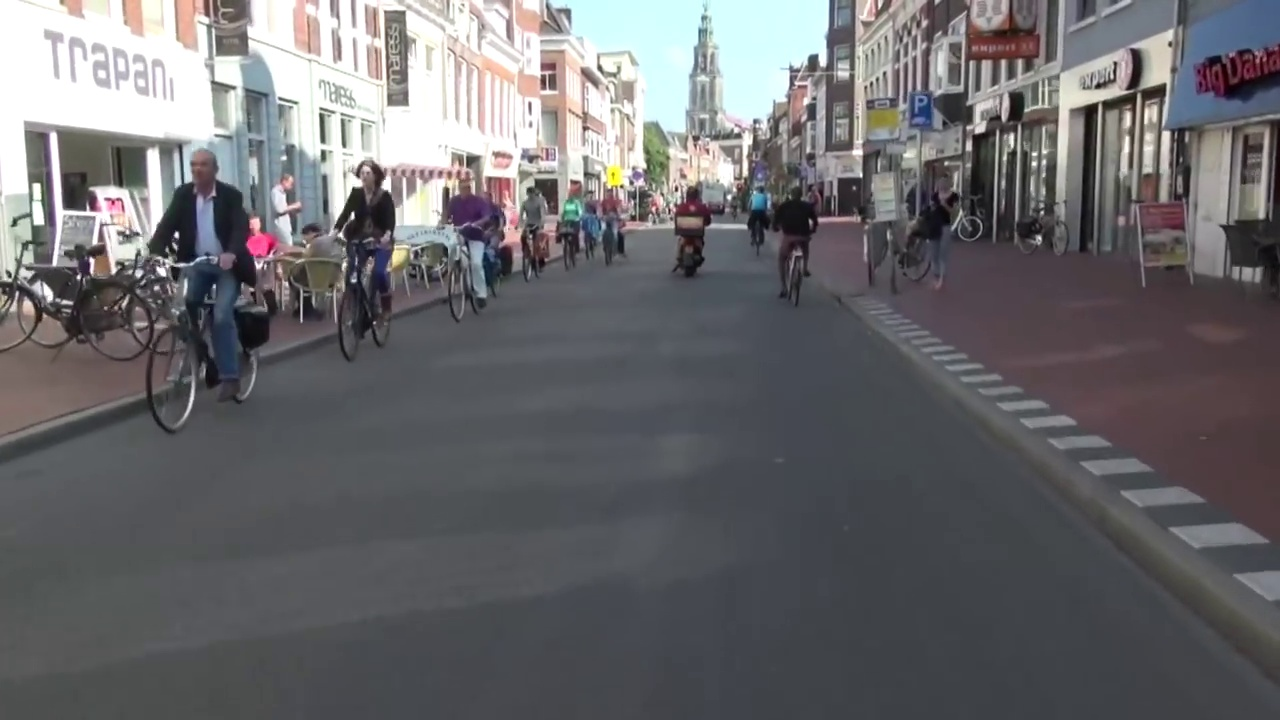cyclist_back: (774, 181, 815, 311), (671, 180, 710, 281), (746, 182, 771, 257)
cyclist_front: (137, 145, 267, 422), (331, 146, 401, 352), (439, 158, 497, 319), (516, 179, 554, 289), (558, 184, 582, 271), (575, 186, 602, 260)
